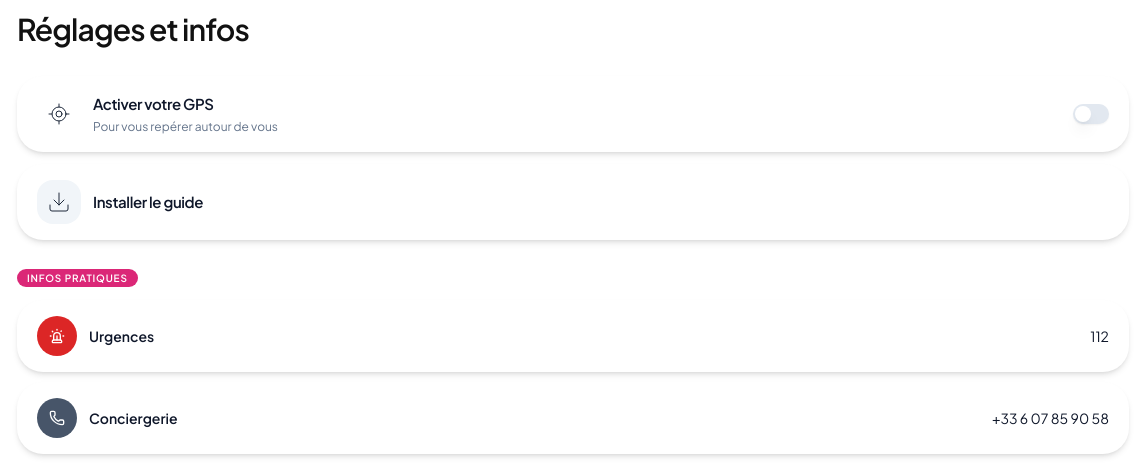
Test: AC-01-03: ouvre l’invite native sur Android puis affiche le guide installé
Step 1. Click the button "Installer le guide" → (59, 202), box 17,164 -> 1129,240
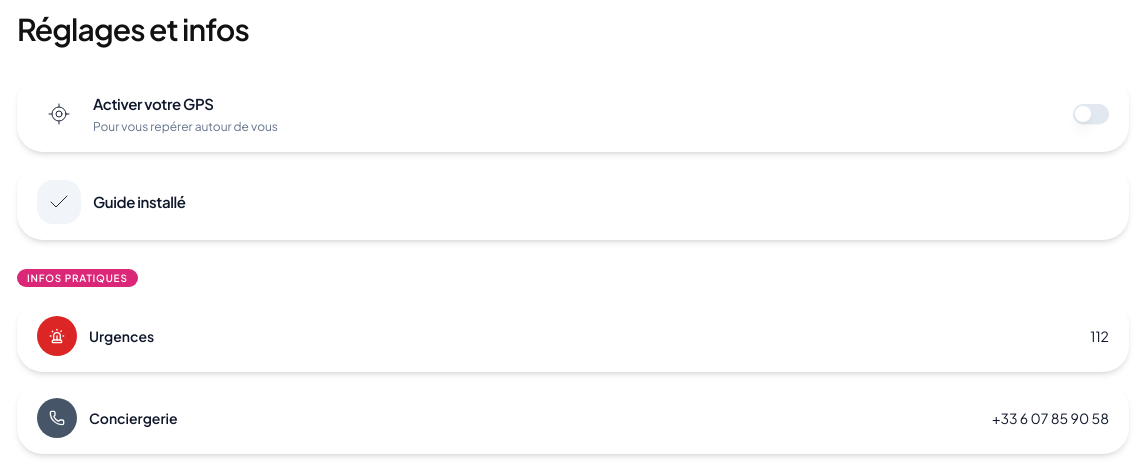
Check: the text "Guide installé" is shown, box 93,192 -> 186,211
Check: the button "Installer le guide" is gone
